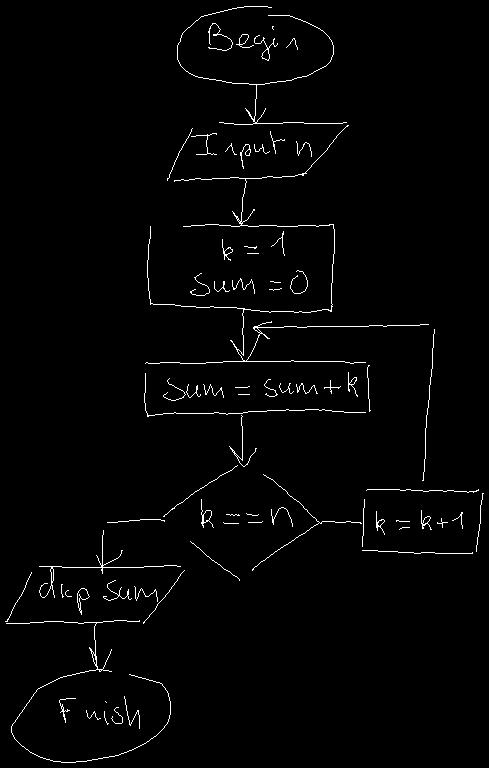arrow: (253, 321, 434, 480), (96, 519, 164, 573), (230, 309, 259, 361), (229, 415, 256, 466), (89, 623, 111, 671), (232, 179, 254, 224), (245, 85, 265, 122), (322, 520, 361, 523)
data: (167, 122, 348, 181), (5, 565, 184, 623)
decision: (163, 465, 321, 580)
process: (147, 224, 334, 312), (144, 360, 370, 416), (362, 489, 483, 553)
terminator: (11, 669, 170, 762), (177, 6, 333, 84)
text: (190, 231, 307, 295), (39, 566, 157, 614), (163, 372, 357, 400), (191, 131, 311, 168), (208, 23, 297, 60), (59, 696, 139, 728), (201, 499, 292, 527), (376, 510, 462, 534)
